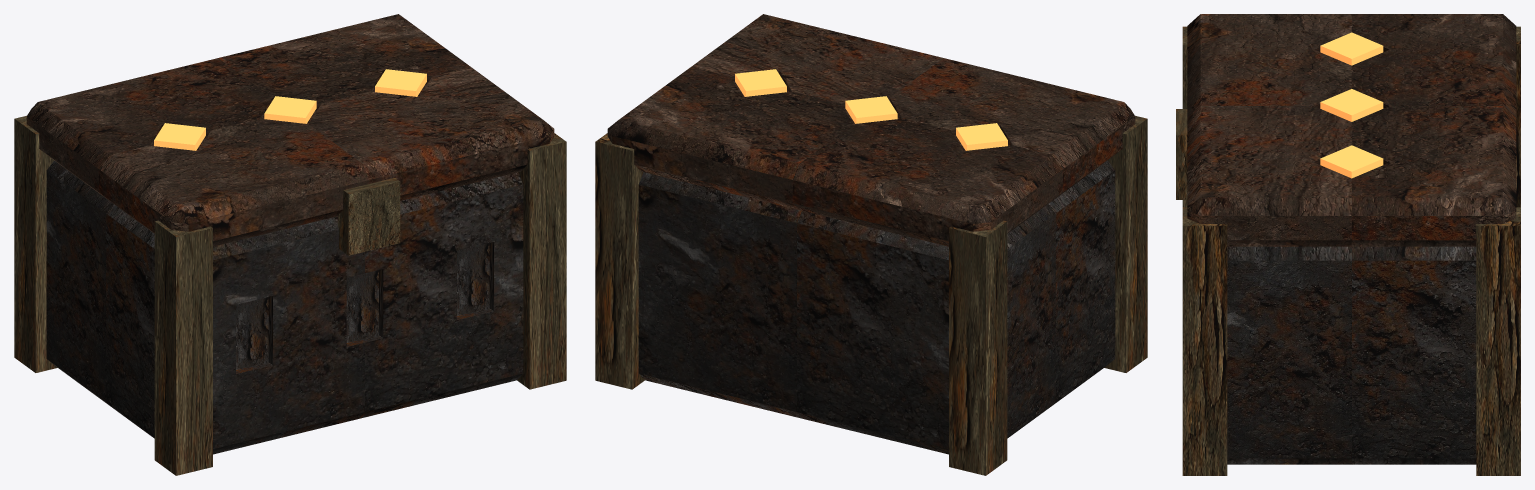
File: containment-box-v01-photo.glb
3 views of the same model, side by side, from view 1: azimuth 30°, elevation 25°; view 2: azimuth 150°, elevation 25°; view 3: azimuth 270°, elevation 25° (orthographic). The views are drawn at different scales.
Parts seen in each view (by area): view 1: containment-box; view 2: containment-box; view 3: containment-box.
Part boxes in pixels (<box>): containment-box: <box>14,14,566,475</box>; containment-box: <box>595,14,1147,475</box>; containment-box: <box>1176,14,1520,475</box>.
Bounding box in the file's own units: 1.06 × 0.68 × 0.775.
Materials: 4 (3 with a texture image).
